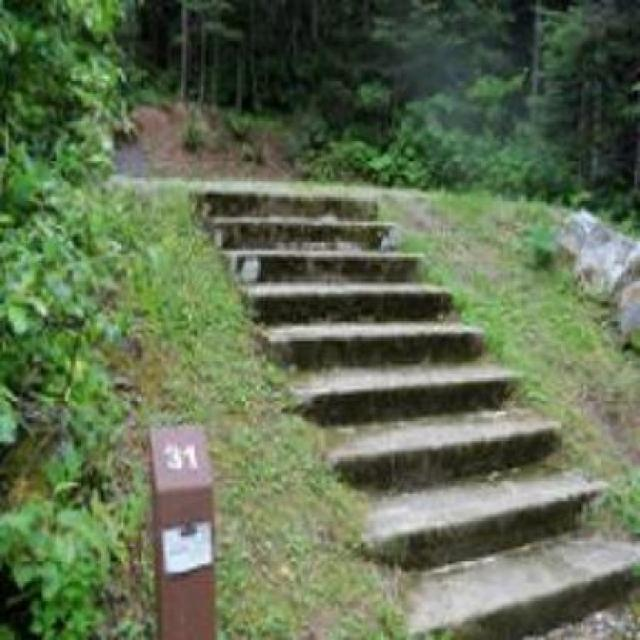stair: (180, 174, 640, 640)
